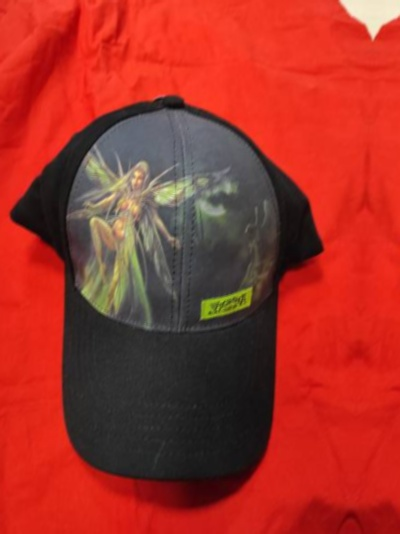Hat: (0, 62, 352, 501), (372, 80, 400, 519)
